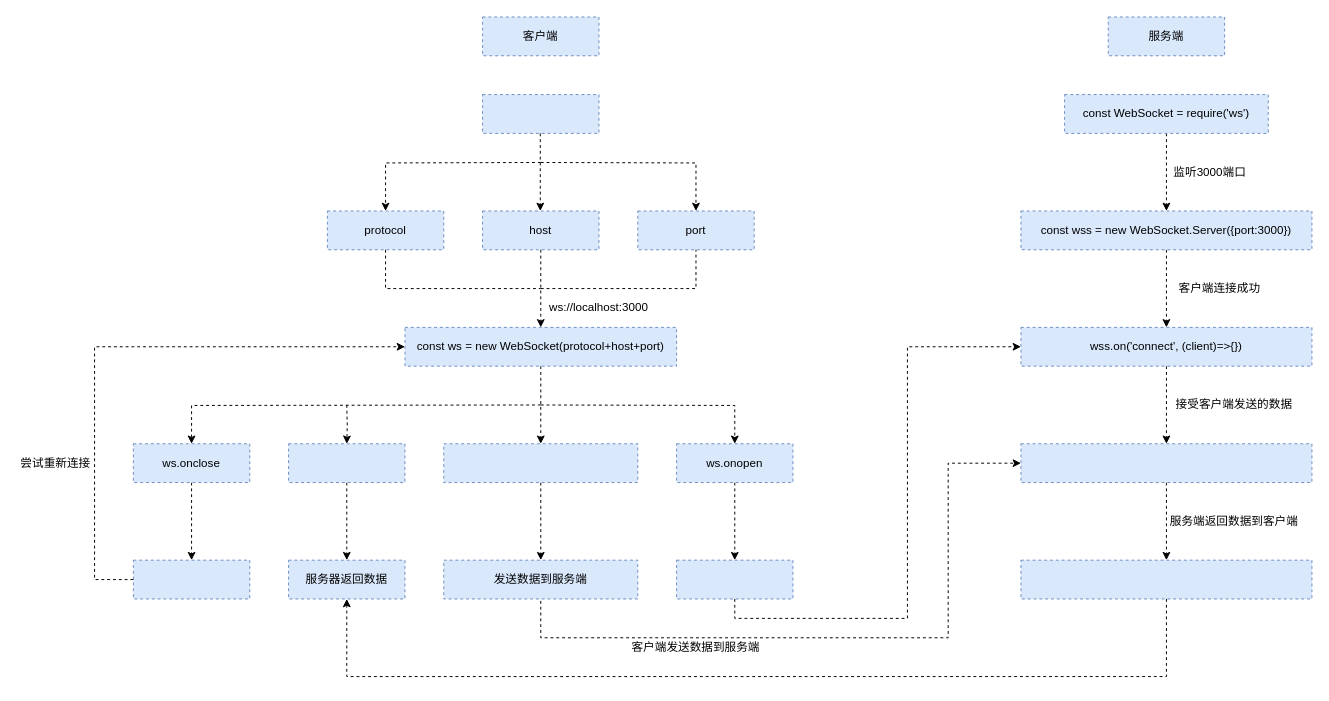
Image size: 1329x701. Some labels were removed from this diagram. Here are the shapes that lost their labels. From the top down, the centre of each, then its label:
At (540,113): "WebSocket".
At (346,463): "ws.onmessage".
At (540,463): "ws.send(JSON.stringify(data))".
At (1166,463): "client.on('message',(msg)=>{})".
At (191,579): "连接服务器失败".
At (734,579): "连接服务器成功".
At (1166,579): "cilent.send(JSON.stringify(data))".
